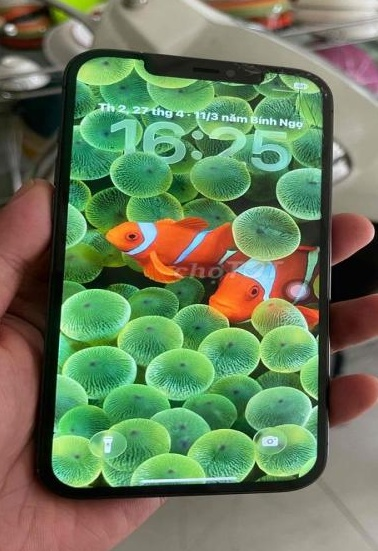scratch: (236, 60, 265, 75), (313, 75, 330, 99), (293, 68, 312, 82), (269, 65, 288, 74)
